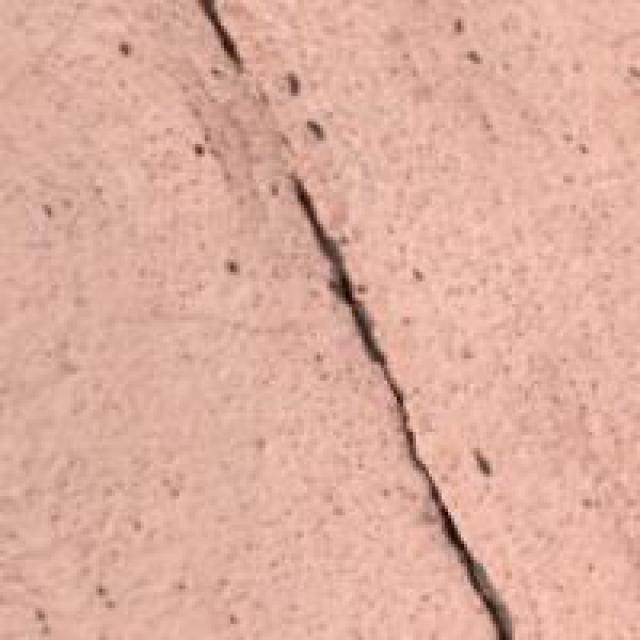crack: (208, 0, 534, 634)
